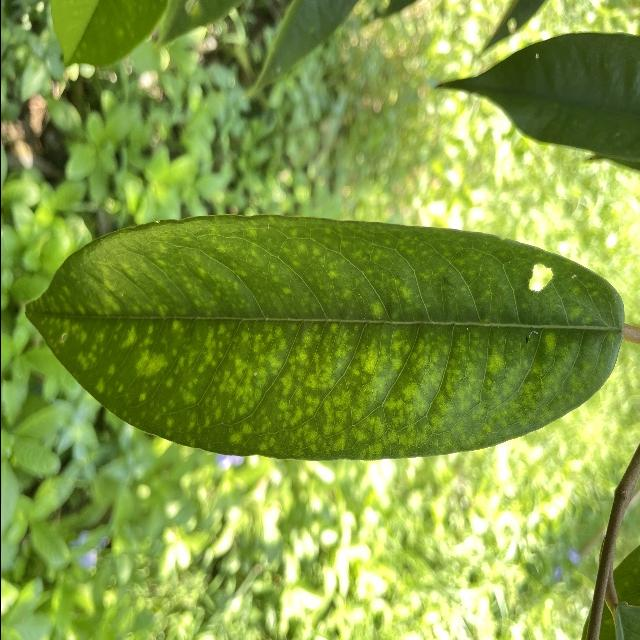Leaf Spot: (23, 207, 633, 473)
